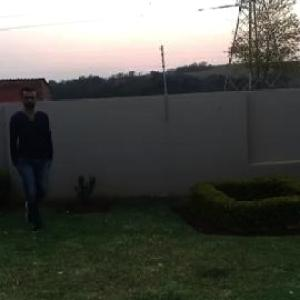follow: (10, 91, 64, 213)
